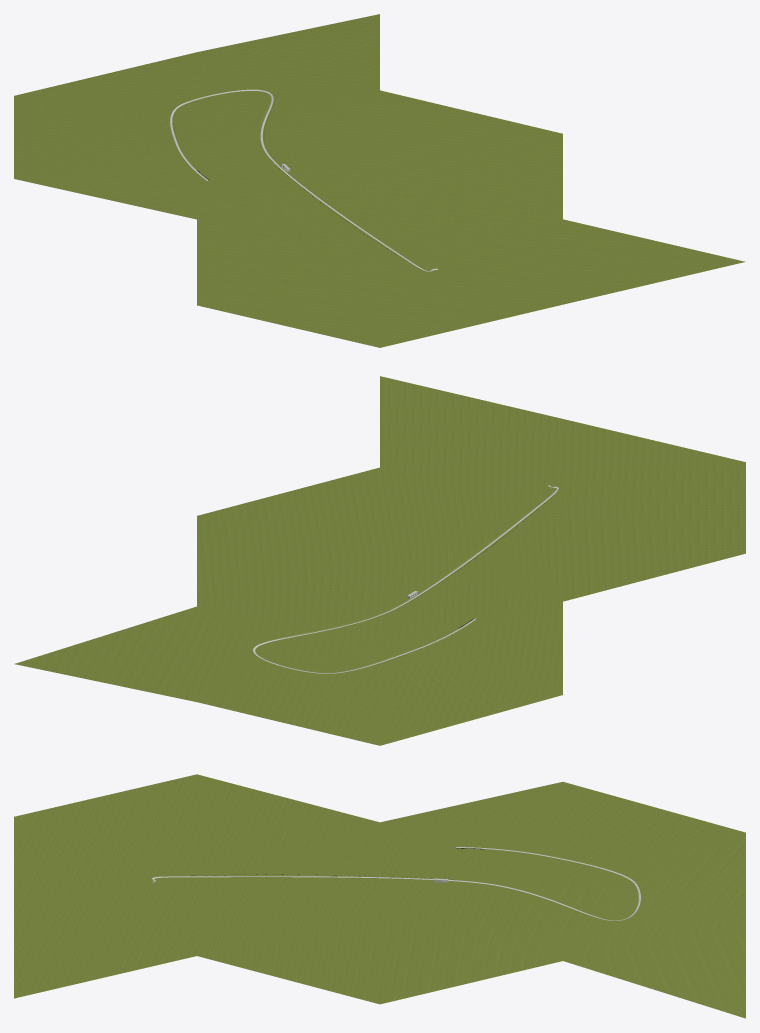
The model's file is Venue.fbx.
3 views of the same model, one above another, from view 1: azimuth 30°, elevation 25°; view 2: azimuth 150°, elevation 25°; view 3: azimuth 270°, elevation 25° (orthographic).
Parts seen in each view (by area): view 1: TERRAIN, TRACK0000; view 2: TERRAIN, TRACK0000; view 3: TERRAIN, TRACK0000.
Boxes of the visible parts, bbox=[...] form: TERRAIN: bbox=[14, 14, 745, 347]; TRACK0000: bbox=[168, 89, 438, 272]; TERRAIN: bbox=[14, 376, 745, 745]; TRACK0000: bbox=[251, 485, 560, 674]; TERRAIN: bbox=[14, 774, 745, 1018]; TRACK0000: bbox=[150, 846, 642, 921].
Size of the model in its own units: 1250 by 60.81 by 1732.
